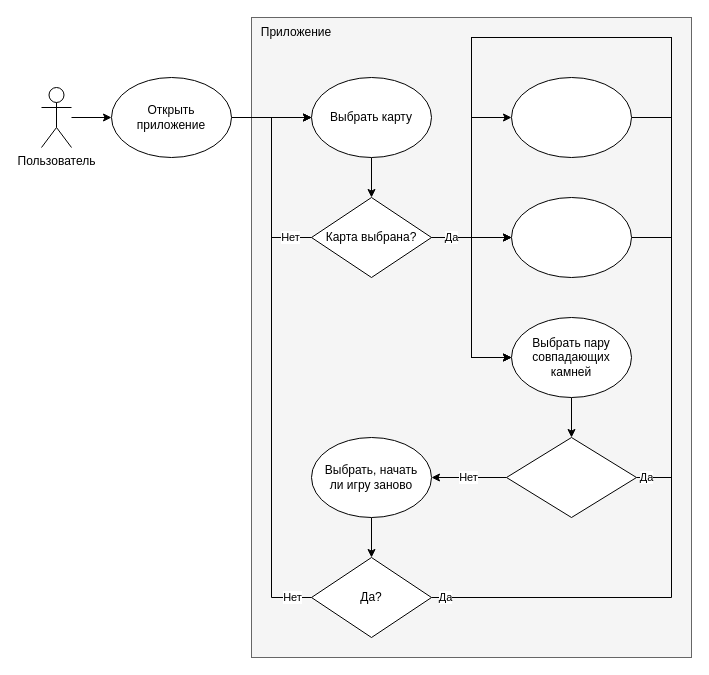
Some shapes in this 709 by 675 pixel diagram are drawn without their labels. Each missing label, with the centre of its shape:
Камни ещё остались?: the point at 571,477
Отменить ход: the point at 571,117
Перемешать поле: the point at 571,237
